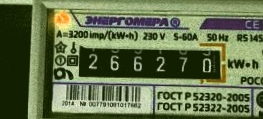0: (200, 56, 213, 73)
2: (85, 51, 99, 69), (154, 54, 166, 72)
6: (108, 52, 121, 71), (131, 54, 144, 72)
7: (177, 54, 189, 72)
screen: (68, 36, 232, 88)
